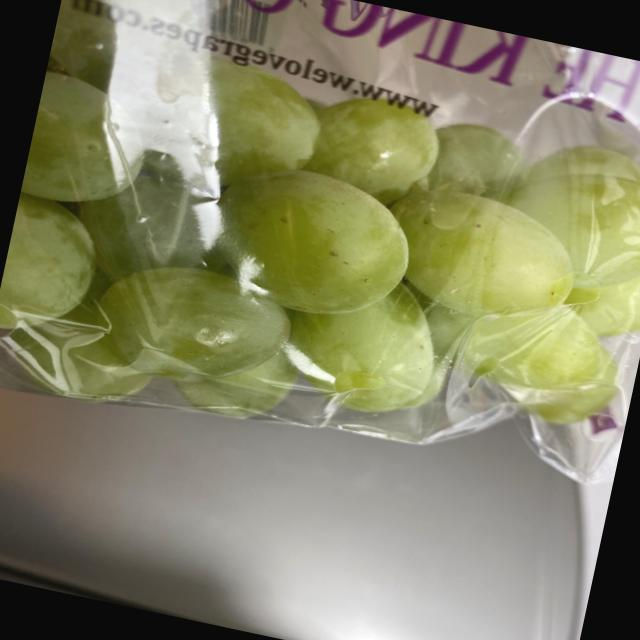grapes: (0, 0, 640, 496)
